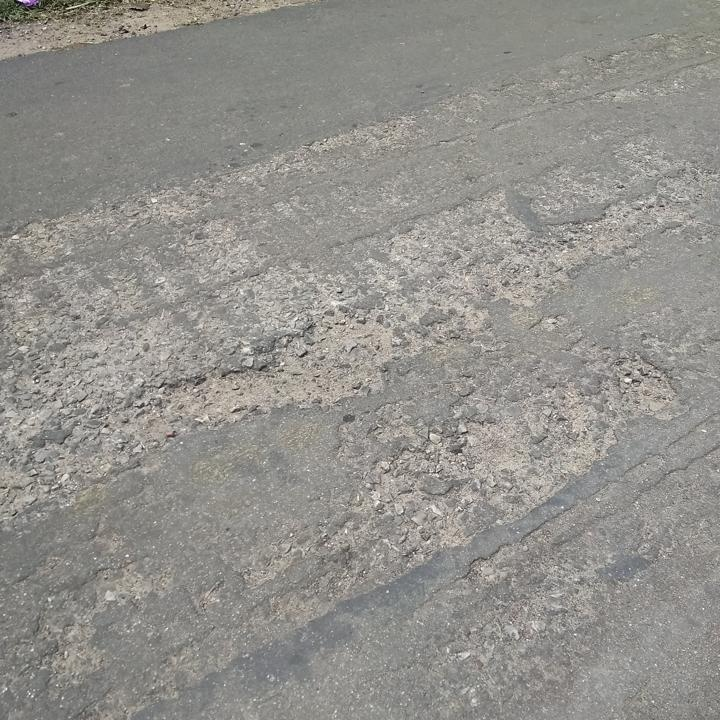pothole: (156, 308, 399, 431), (478, 197, 639, 303), (607, 352, 682, 415)
